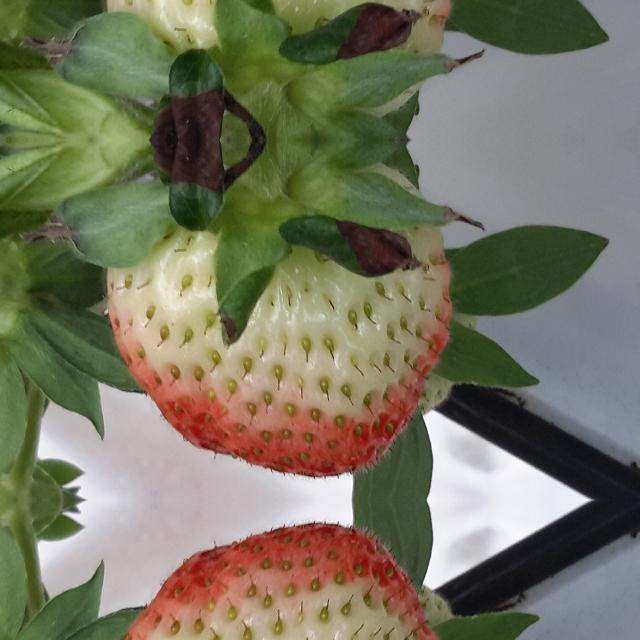Health_50: (106, 164, 454, 480), (105, 520, 454, 640), (105, 0, 454, 116)
